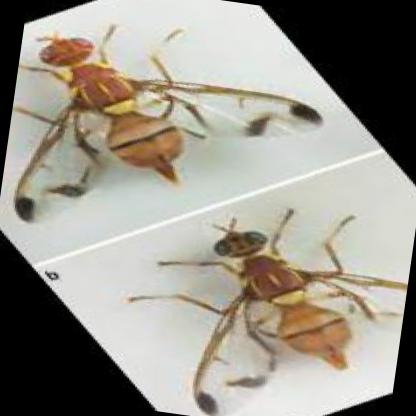fruit fly: (10, 38, 326, 225), (192, 232, 403, 416)
